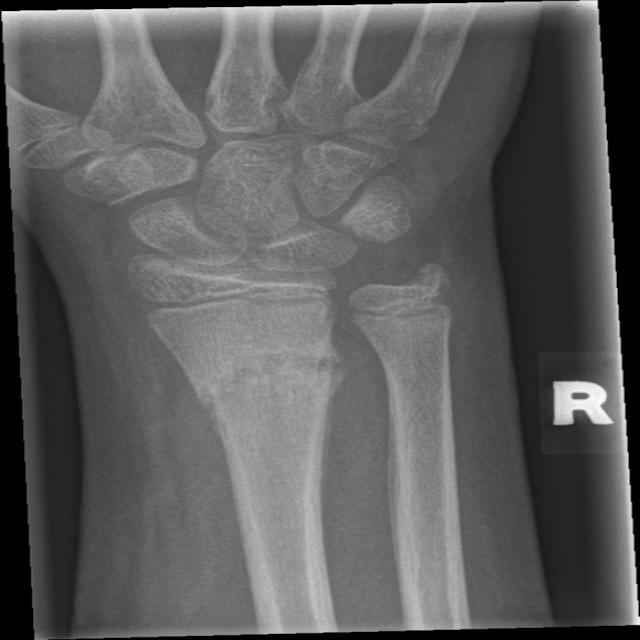radius fracture: (171, 339, 355, 511)
ulna fracture: (388, 240, 494, 430)
